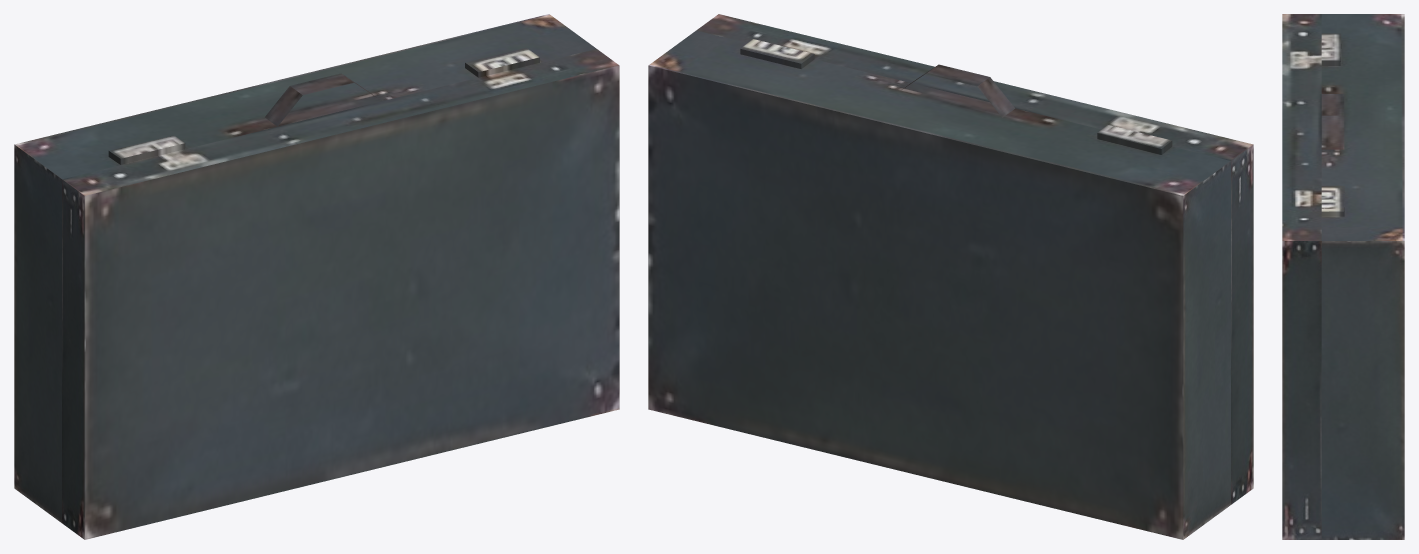
File: briefcase.glb
3 renders of one model, left to right at view 1: azimuth 30°, elevation 25°; view 2: azimuth 150°, elevation 25°; view 3: azimuth 270°, elevation 25°, orthographic. The views are drawn at different scales.
Parts seen in each view (by area): view 1: Cube.001, Cube; view 2: Cube, Cube.001; view 3: Cube, Cube.001.
Part boxes in pixels (<box>): Cube.001: <box>62,49,619,539</box>; Cube: <box>14,14,596,522</box>; Cube: <box>648,30,1230,539</box>; Cube.001: <box>696,14,1253,504</box>; Cube: <box>1321,14,1404,539</box>; Cube.001: <box>1282,14,1321,539</box>.
Size of the model in its own units: 2.08 by 1.37 by 0.4737.
1 material, 1 textured.
